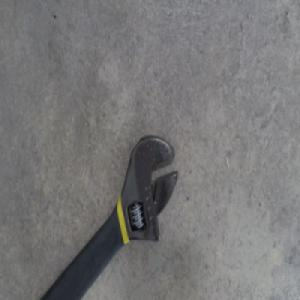AdjustableWrench: (42, 134, 181, 299)
